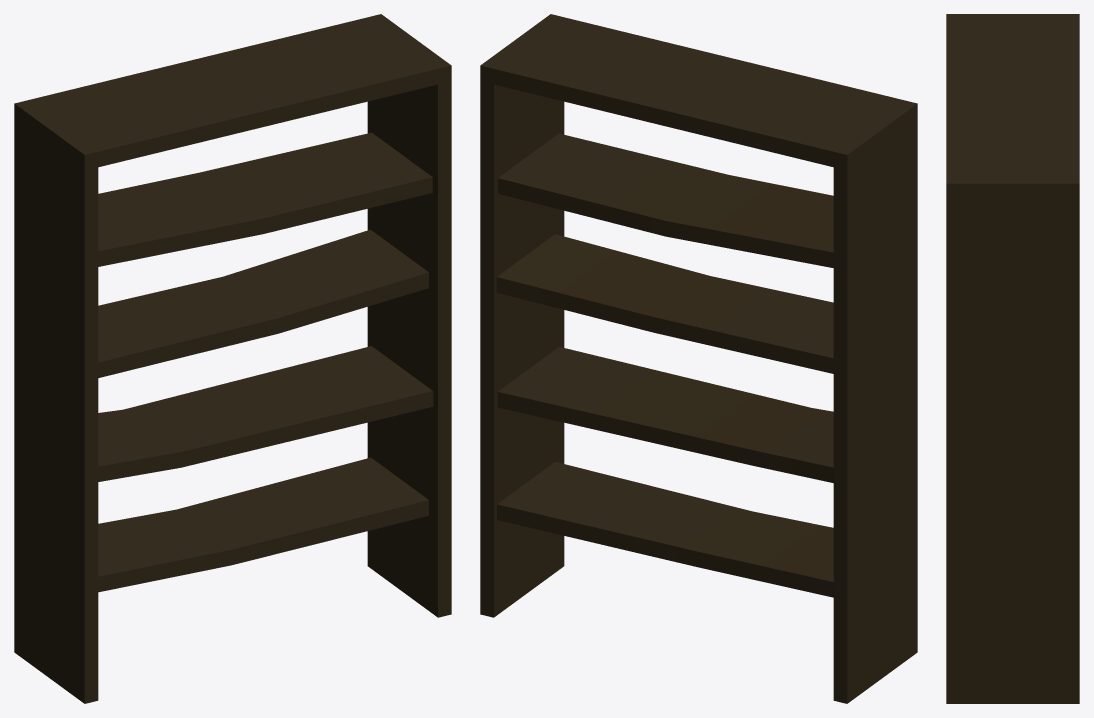
3 views of the same model, side by side, from view 1: azimuth 30°, elevation 25°; view 2: azimuth 150°, elevation 25°; view 3: azimuth 270°, elevation 25° (orthographic). The views are drawn at different scales.
Visible parts, largest first — view 1: Object014; view 2: Object014; view 3: Object014.
Part boxes in pixels (bbox=[...]): Object014: bbox=[14, 14, 451, 703]; Object014: bbox=[480, 14, 917, 703]; Object014: bbox=[946, 14, 1079, 703].
Bounding box in the file's own units: 1.1 × 1.57 × 0.364.
